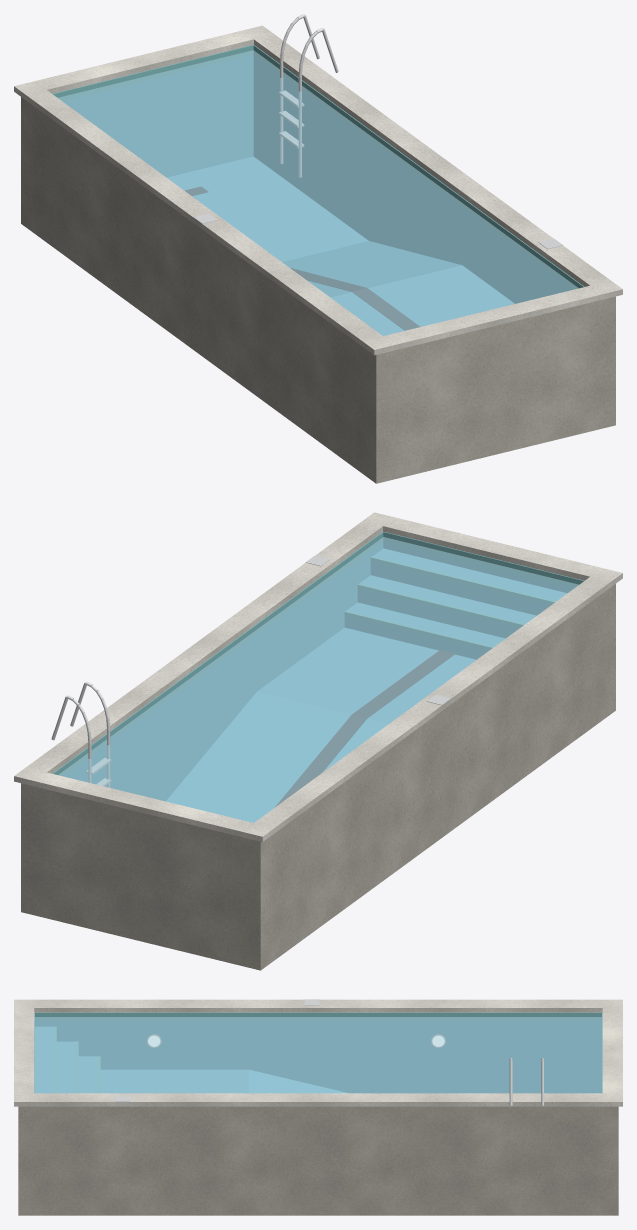
Rendered from pool.glb.
3 renders of one model, top to bottom at view 1: azimuth 30°, elevation 25°; view 2: azimuth 150°, elevation 25°; view 3: azimuth 270°, elevation 25°, orthographic. The views are drawn at different scales.
Parts seen in each view (by area): view 1: pool_concrete, pool_water, pool_pool_t, pool_coping, pool_accent2, pool_chrome, pool_dark; view 2: pool_concrete, pool_water, pool_pool_t, pool_coping, pool_accent2, pool_dark, pool_chrome; view 3: pool_concrete, pool_water, pool_pool_t, pool_coping, pool_accent2, pool_chrome.
Boxes of the visible parts, x1,y1,x2,y2 form: pool_concrete: [21, 97, 615, 483]; pool_water: [58, 50, 578, 335]; pool_pool_t: [63, 55, 573, 335]; pool_coping: [14, 25, 622, 355]; pool_accent2: [52, 45, 584, 289]; pool_chrome: [279, 14, 338, 177]; pool_dark: [185, 186, 419, 330]; pool_concrete: [21, 584, 615, 970]; pool_water: [58, 537, 578, 822]; pool_pool_t: [63, 541, 573, 822]; pool_coping: [14, 512, 622, 841]; pool_accent2: [52, 531, 584, 776]; pool_dark: [275, 650, 454, 806]; pool_chrome: [51, 681, 111, 787]; pool_concrete: [18, 1106, 618, 1215]; pool_water: [35, 1017, 601, 1093]; pool_pool_t: [35, 1021, 601, 1093]; pool_coping: [14, 999, 622, 1106]; pool_accent2: [34, 1012, 602, 1093]; pool_chrome: [146, 1034, 543, 1105].
Size of the model in its own units: 3.99 by 2.72 by 9.64.
Materials: 9 (2 with a texture image).
